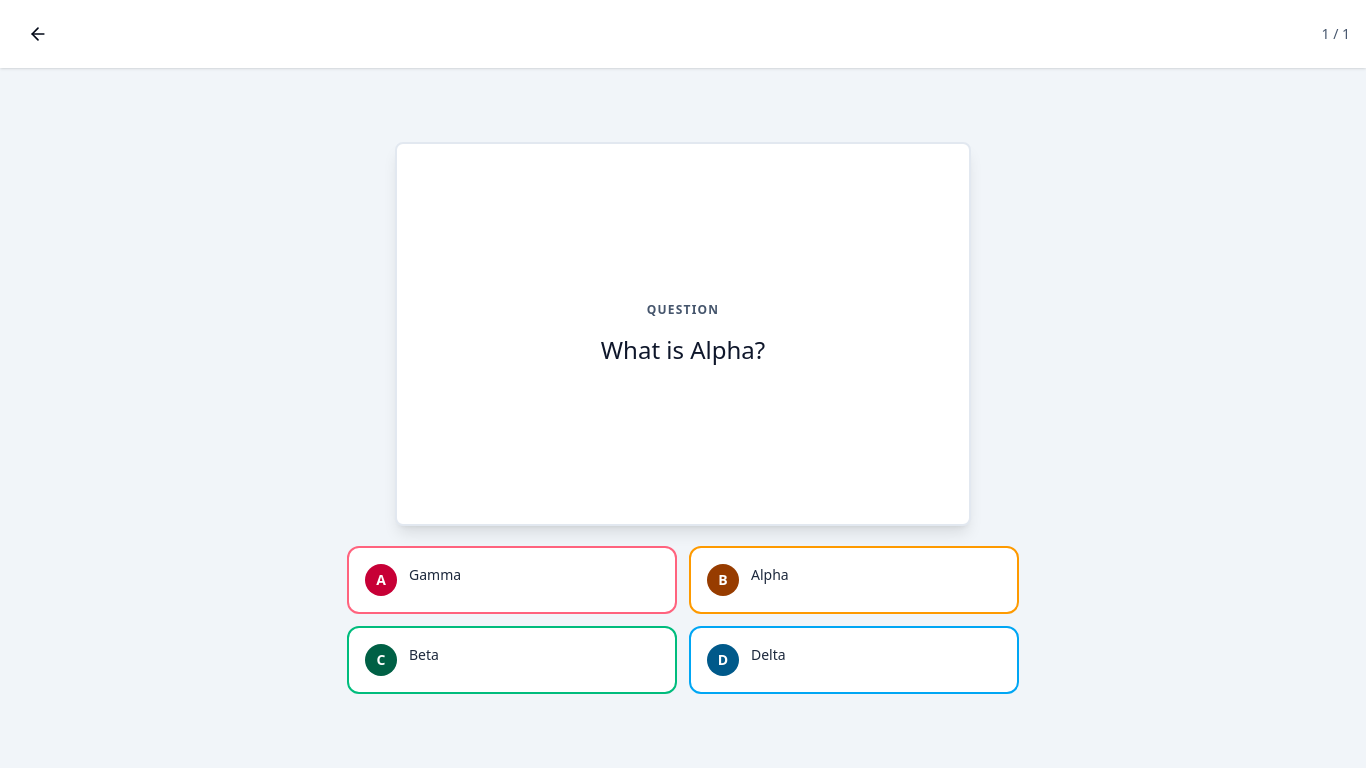
Test: retries a failed answer with the same logical key and original option
Click the button "B Alpha" at (723, 580), box x1=689 y1=546 x2=1019 y2=614
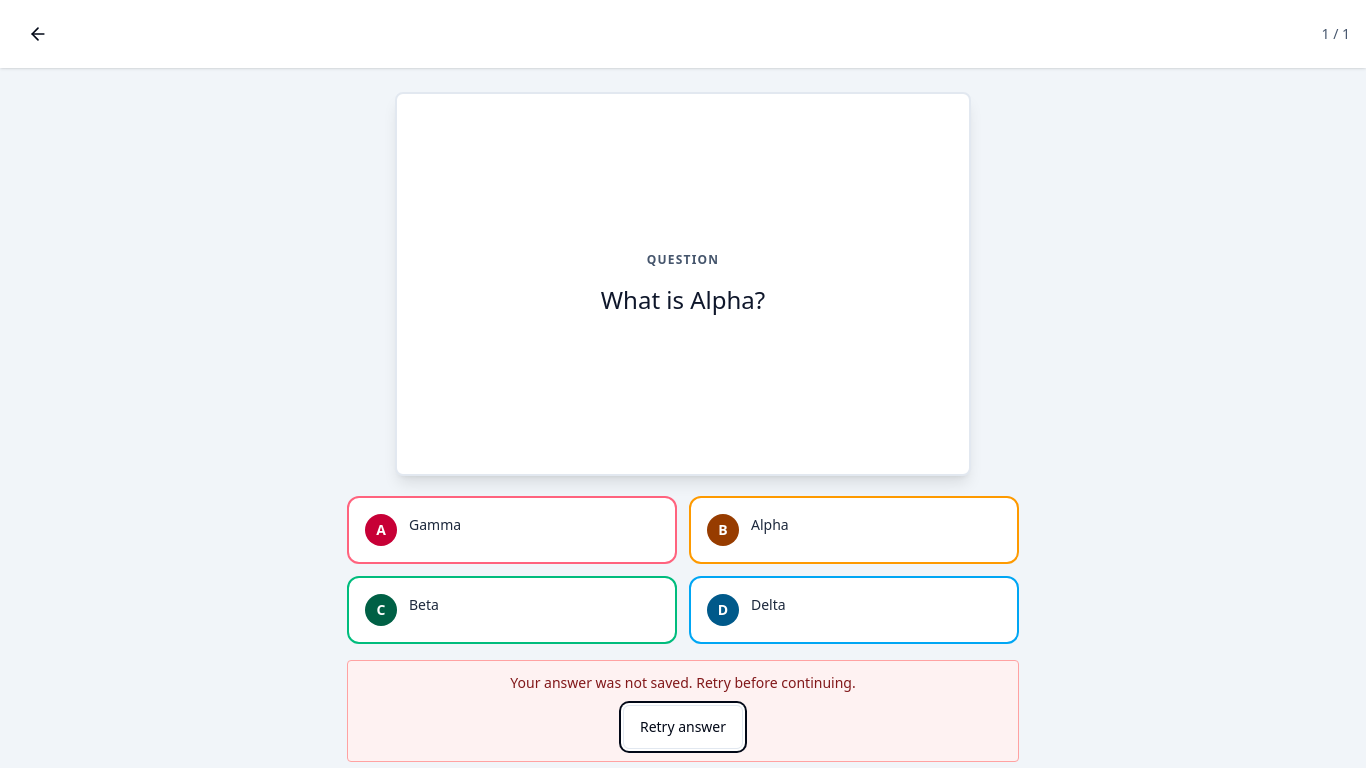
Expected: the button "Next Question" is not shown
Click the button "Retry answer" at (683, 727), box x1=623 y1=705 x2=743 y2=749
(page scrolled)
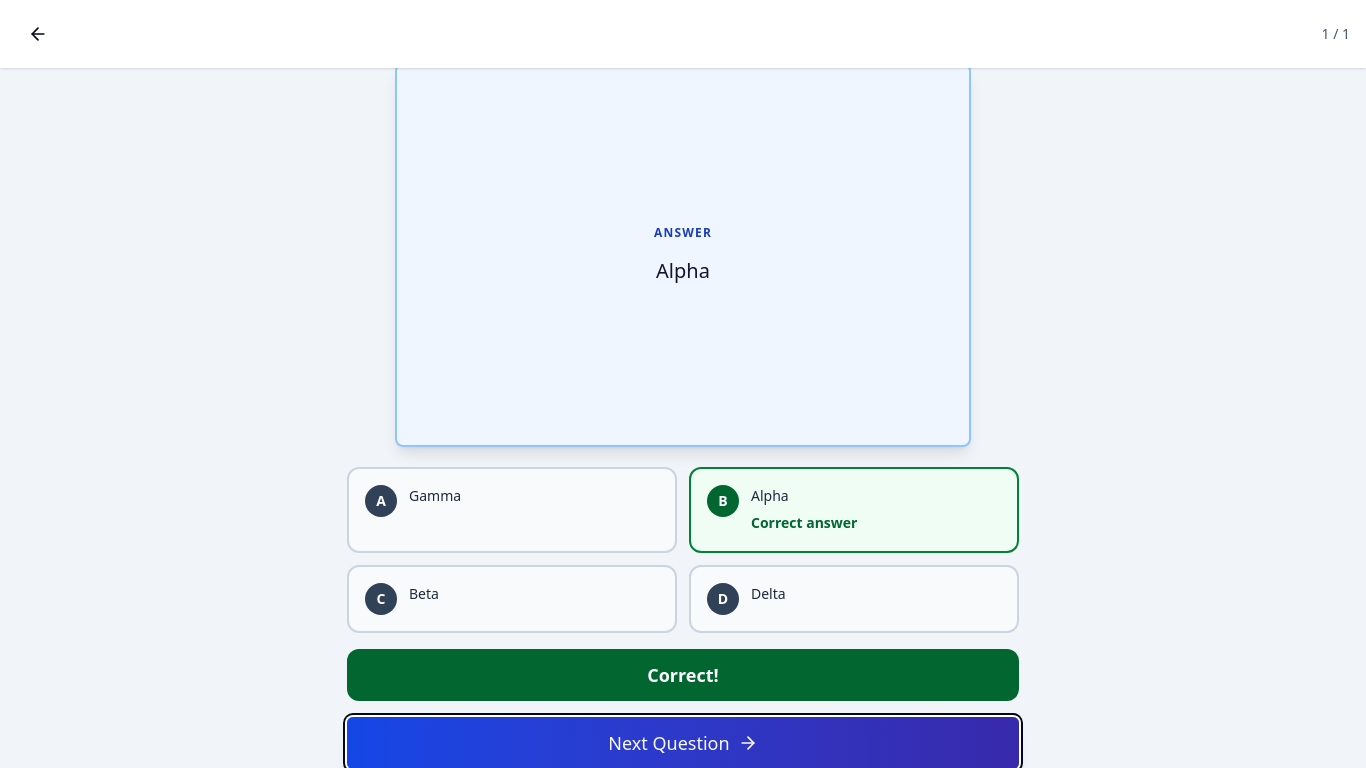
Expected: the button "Next Question" is shown, x1=347 y1=716 x2=1019 y2=767
